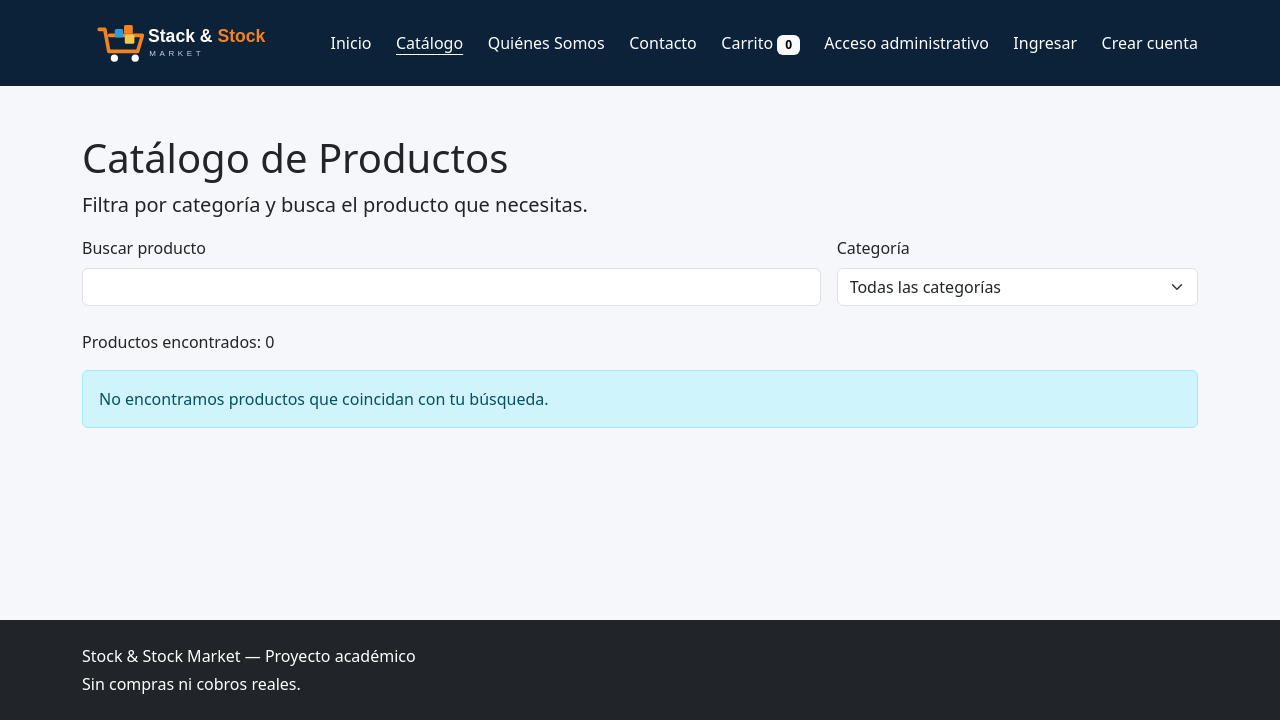
Test: Catálogo y carrito compartidos › no repone productos cuando el catálogo persistido está vacío
Expected: the text "No encontramos productos que coincidan con tu búsqueda." is shown, [82, 370, 1198, 428]
Click the link "Carrito 0": (761, 43) [721, 31, 800, 55]
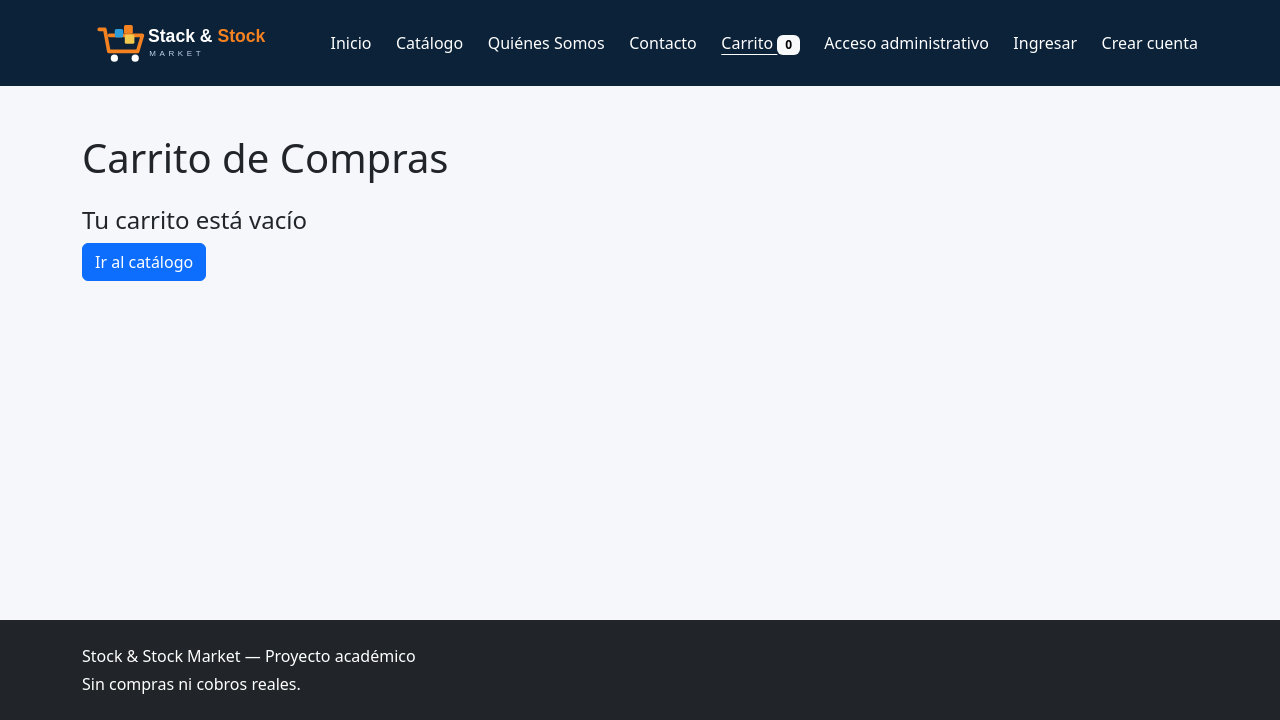
Expected: the heading "Tu carrito está vacío" is shown, [82, 203, 307, 236]
